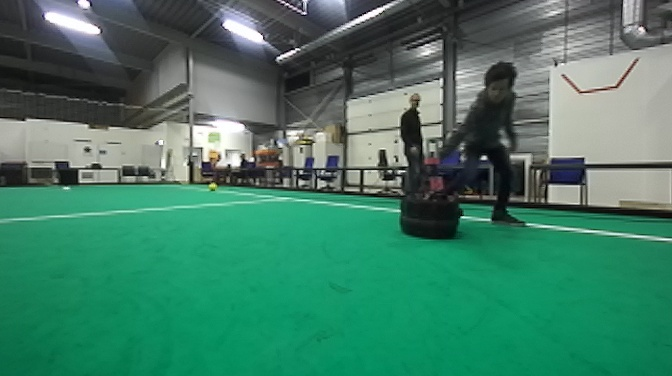ball: (207, 181, 218, 193)
human: (459, 61, 526, 241)
robot: (395, 135, 463, 240)
